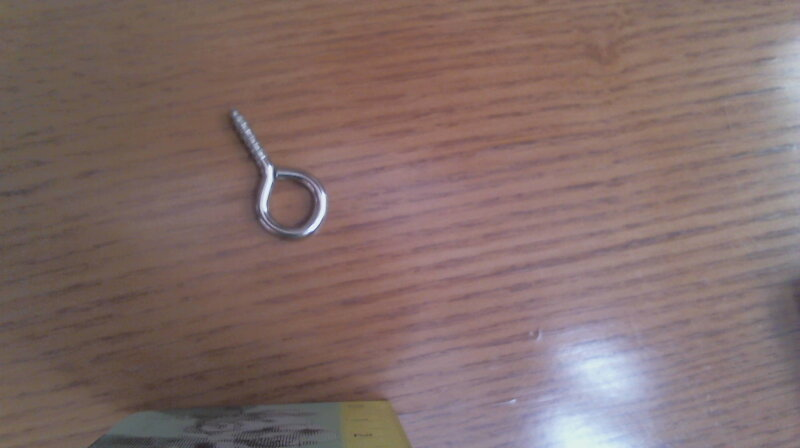O001: (225, 106, 331, 244)
